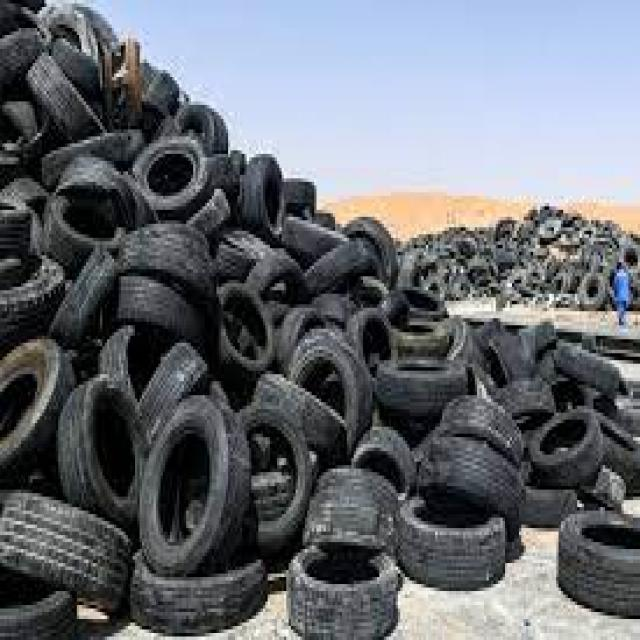Rubber -Non-Biodegradable but Recyclable-: (0, 1, 640, 640)
